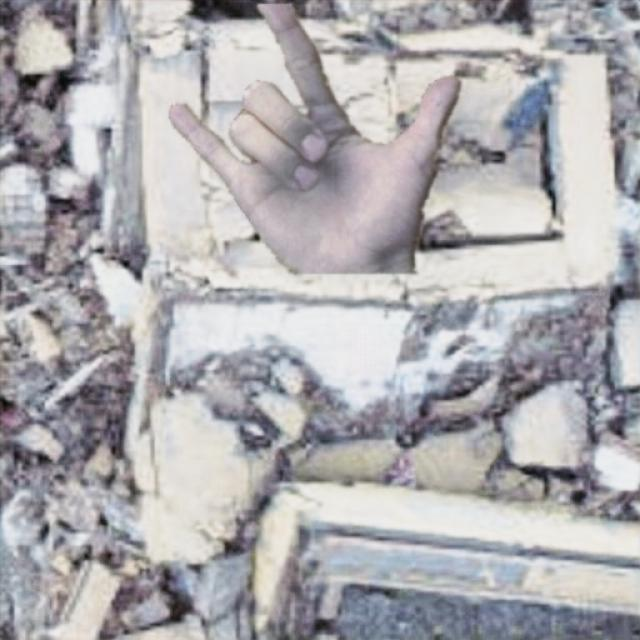Person in Rubble: (168, 4, 462, 272)
